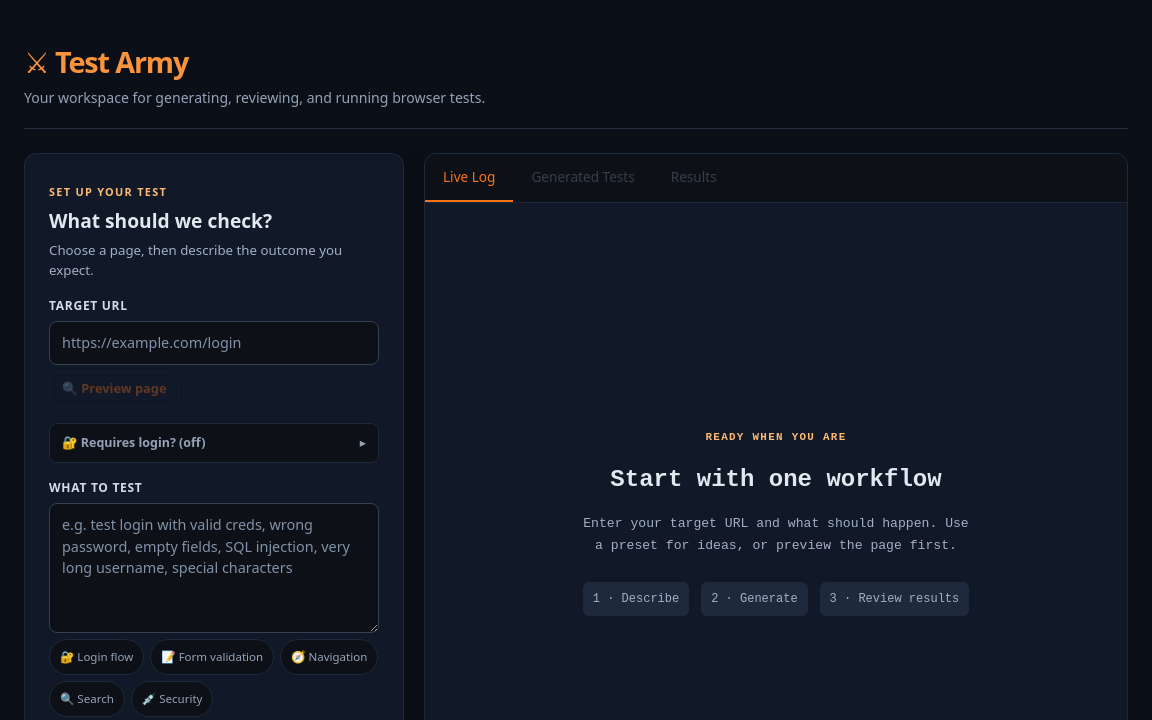
Test Army inputs › requires a target and description before generation
Expected: the heading "⚔ Test Army" is shown, [24,42,188,81]
Expected: the button "🔍 Preview page" is disabled, [49,370,180,406]
Type "https://example.test" into the field labelled "Target URL" at (214, 343), box [49,321,379,364]
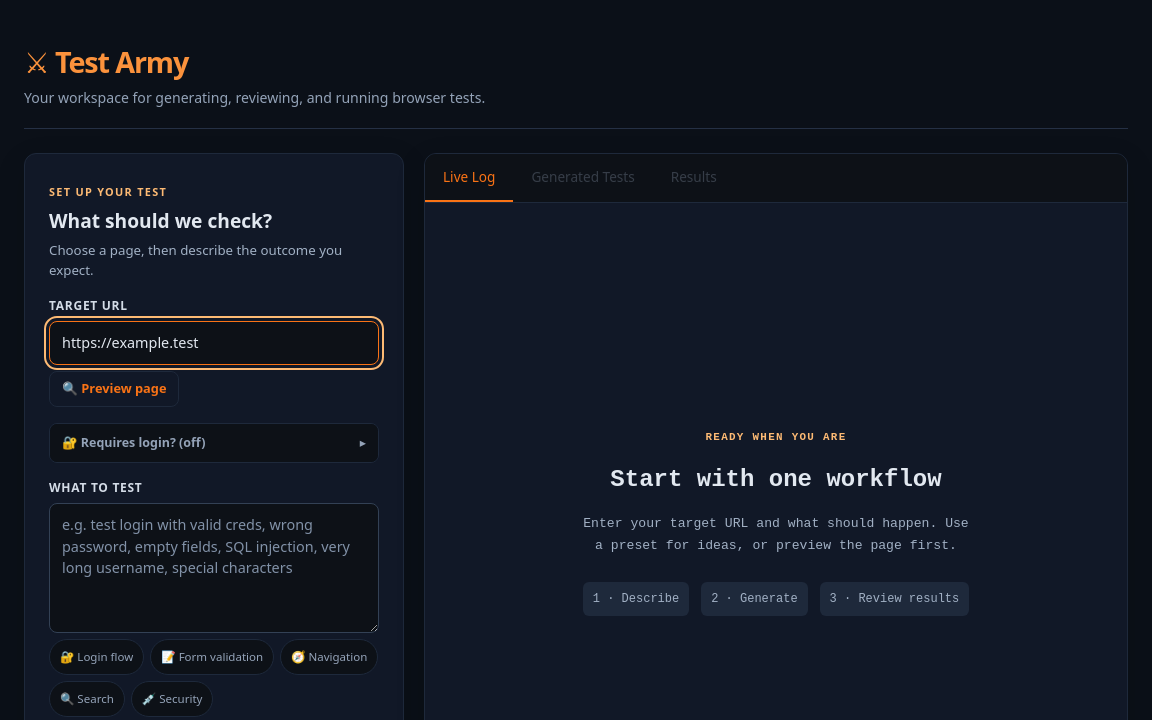
Now the button "🔍 Preview page" is enabled, box [49,370,180,406]
Type "Check the search form" into the text box labelled "What to test" at (214, 568), box [49,503,379,633]
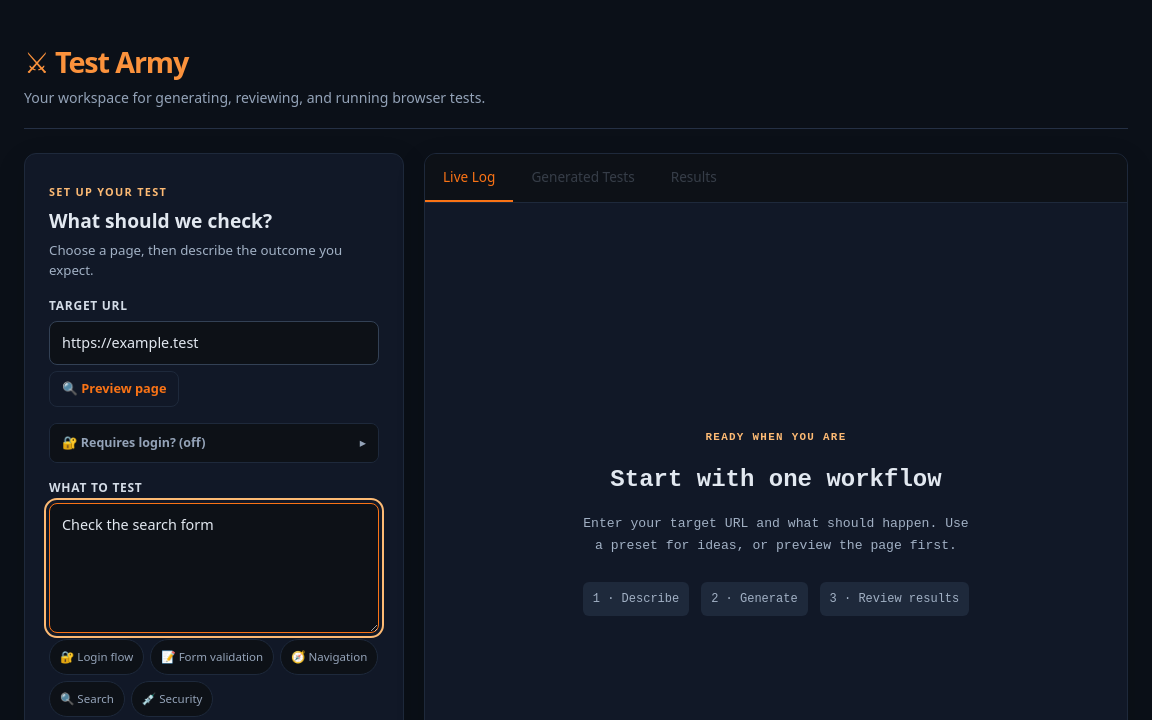
Clear the field labelled "Target URL" at (214, 343), box [49,321,379,364]
(page scrolled)
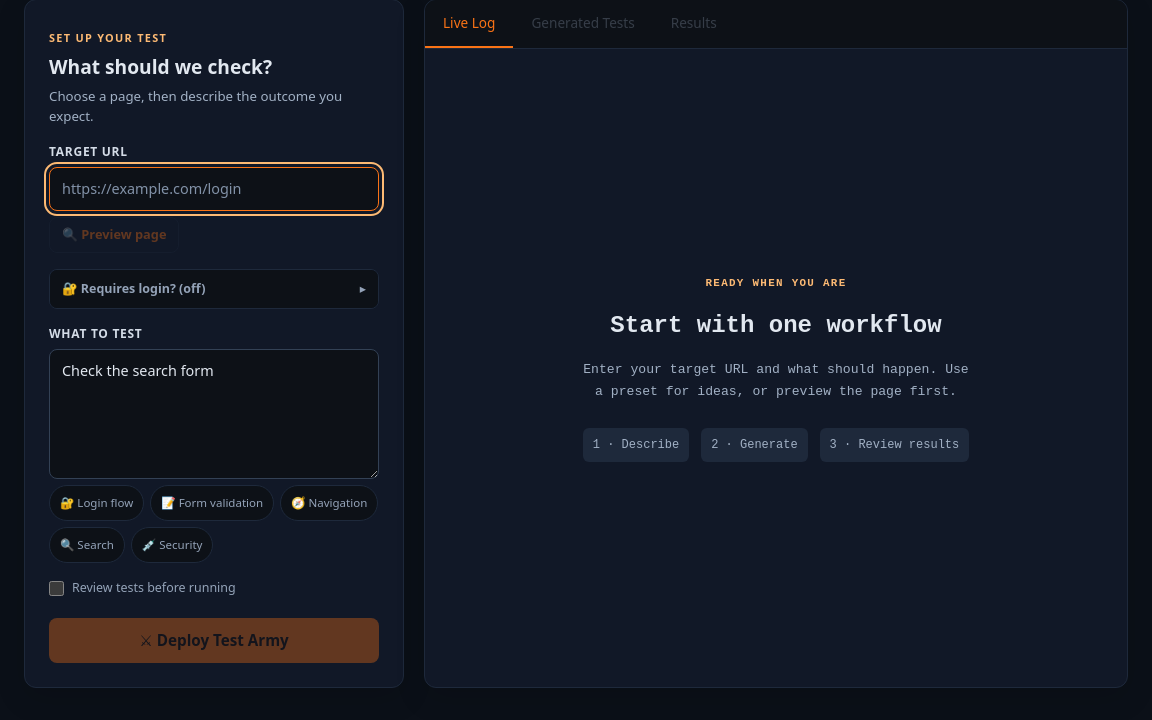
Now the button "⚔ Deploy Test Army" is disabled, box [49,618,379,663]
